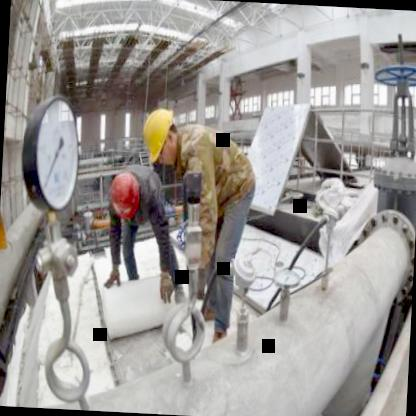helmet: (139, 100, 182, 171), (107, 166, 144, 222)
